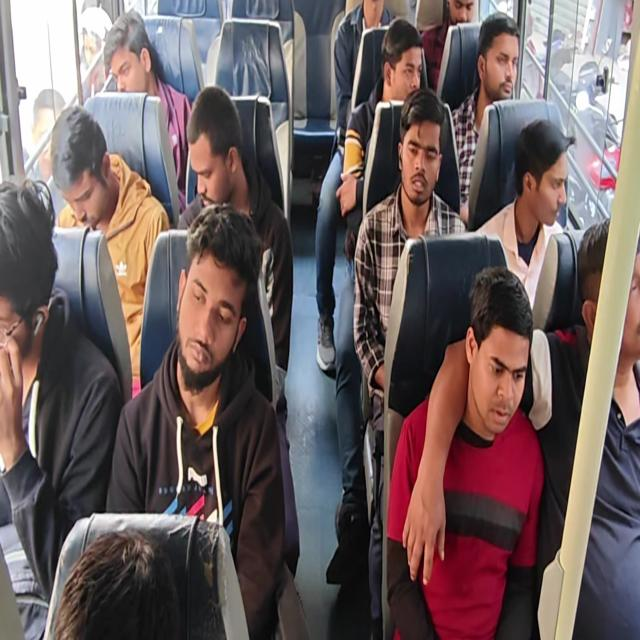person: (1, 1, 638, 638), (410, 217, 640, 638), (105, 202, 309, 638), (352, 87, 468, 637), (176, 85, 301, 577), (386, 266, 544, 638), (318, 11, 426, 544), (0, 176, 123, 638), (538, 217, 640, 639), (50, 104, 170, 398), (314, 0, 394, 372), (335, 17, 425, 281), (474, 118, 577, 318), (102, 9, 194, 210), (450, 11, 520, 222), (51, 527, 180, 639), (334, 0, 394, 148), (23, 88, 79, 226), (420, 0, 476, 92), (78, 6, 112, 102)
